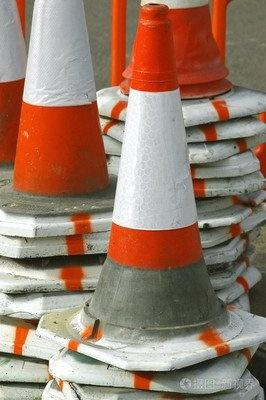cone_barrel: (83, 0, 218, 358), (5, 0, 110, 207), (170, 0, 231, 96)
